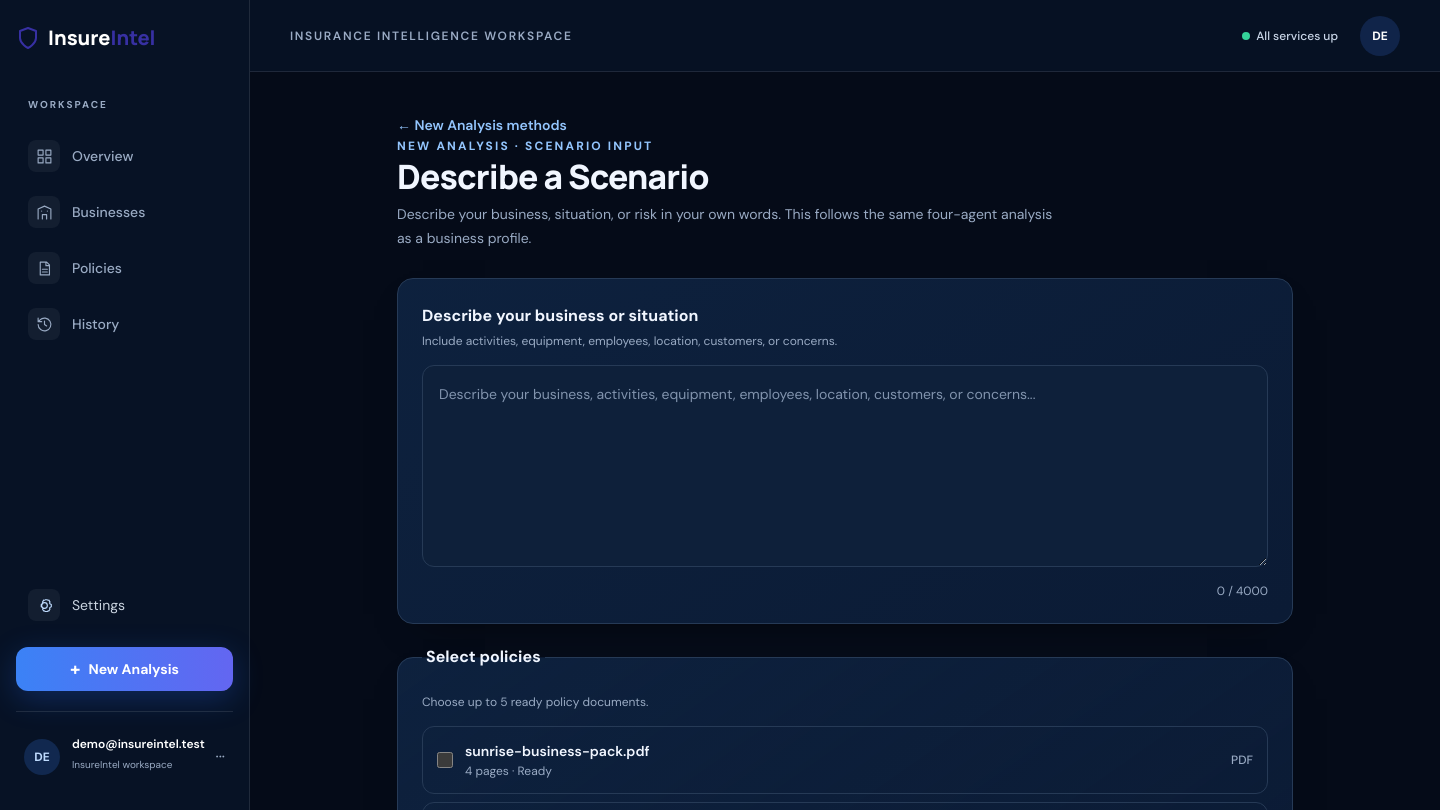
Test: retries a failed scenario run with the same scenario and policies
The width and height of the screenshot is (1440, 810).
Type "Bakery uses commercial ovens with five staff." into the text box at (845, 466), box [422, 365, 1268, 567]
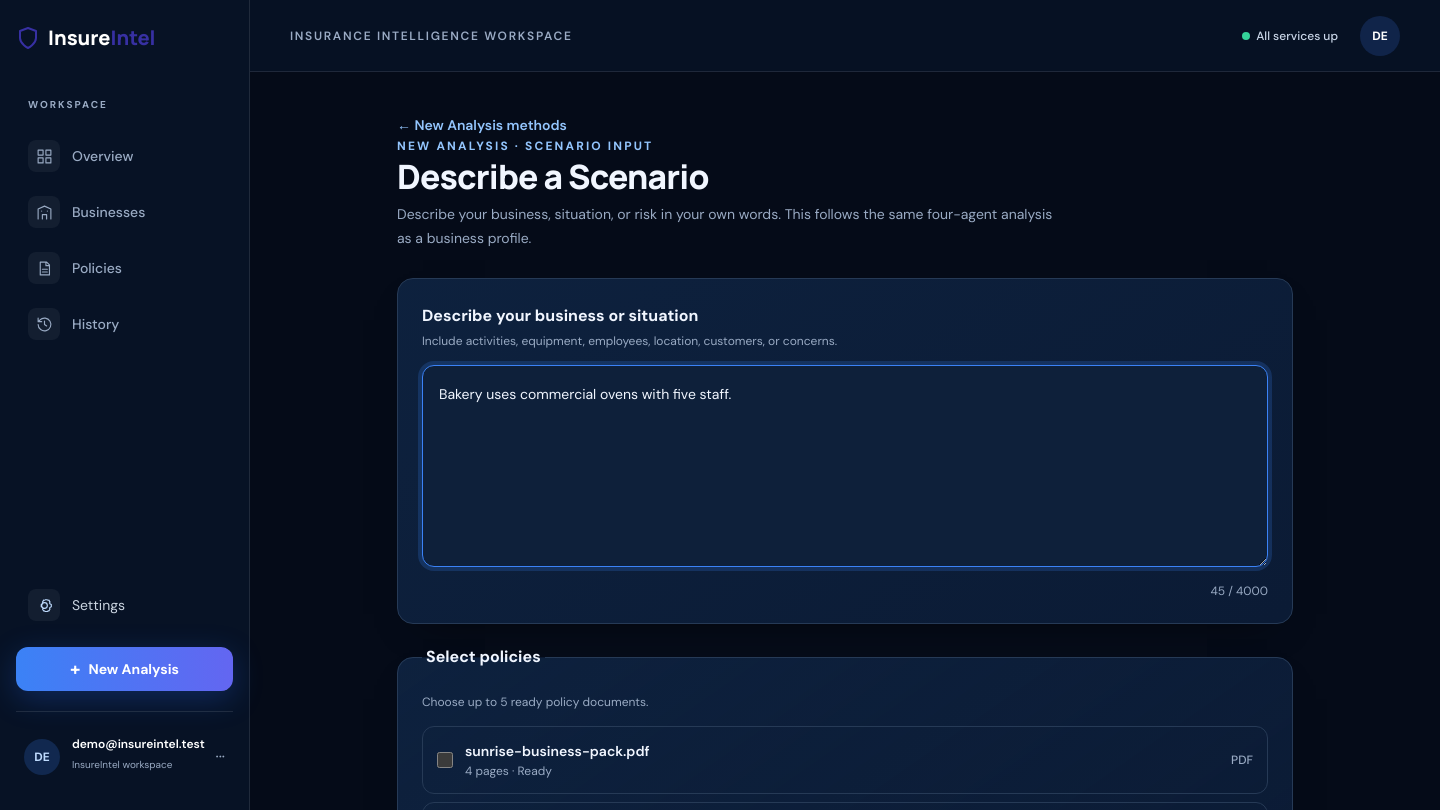
Click the checkbox labelled "sunrise-business-pack.pdf 4 pages · Ready PDF" at (445, 760), box [437, 752, 453, 768]
(page scrolled)
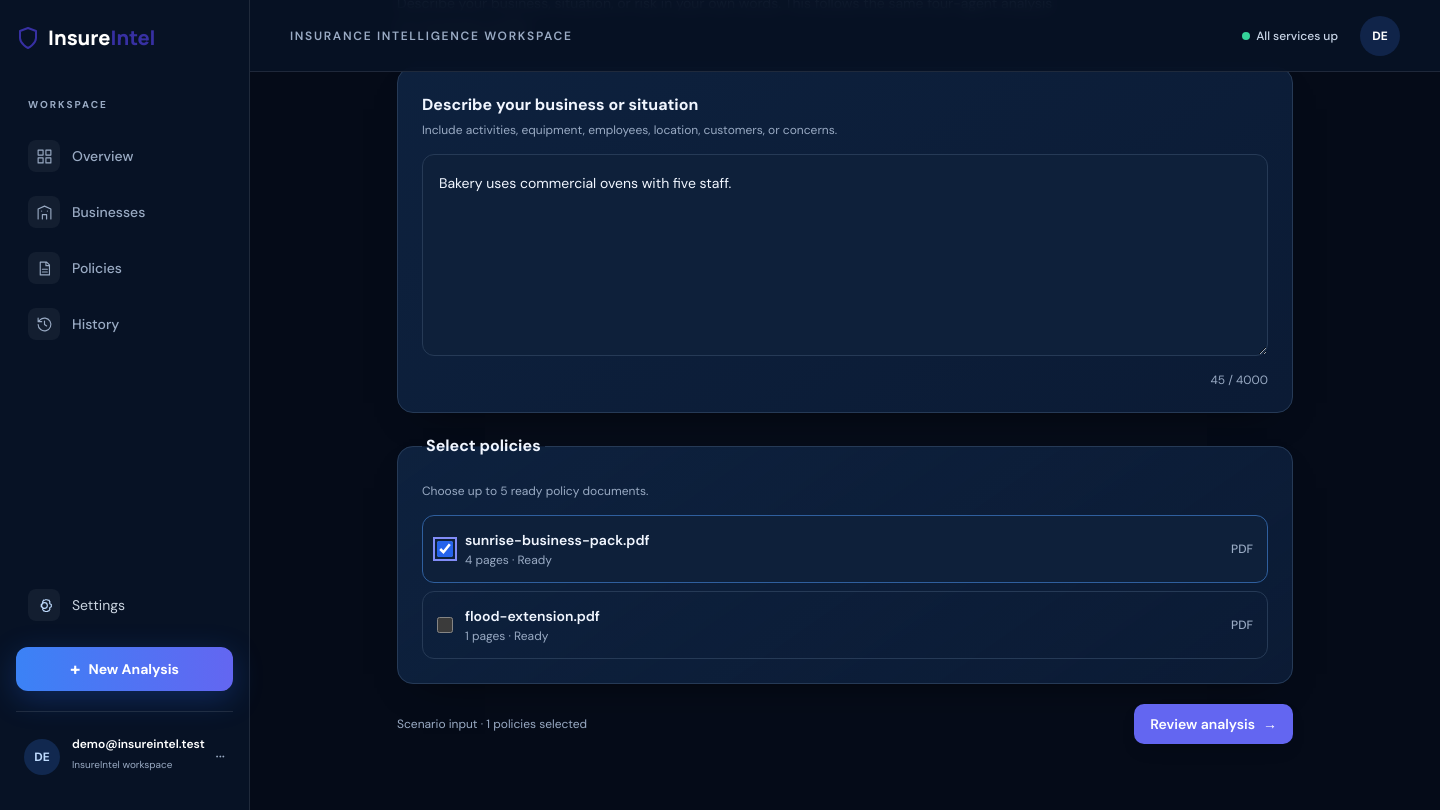
Click the button "Review analysis →" at (1214, 724), box [1134, 704, 1293, 744]
(page scrolled)
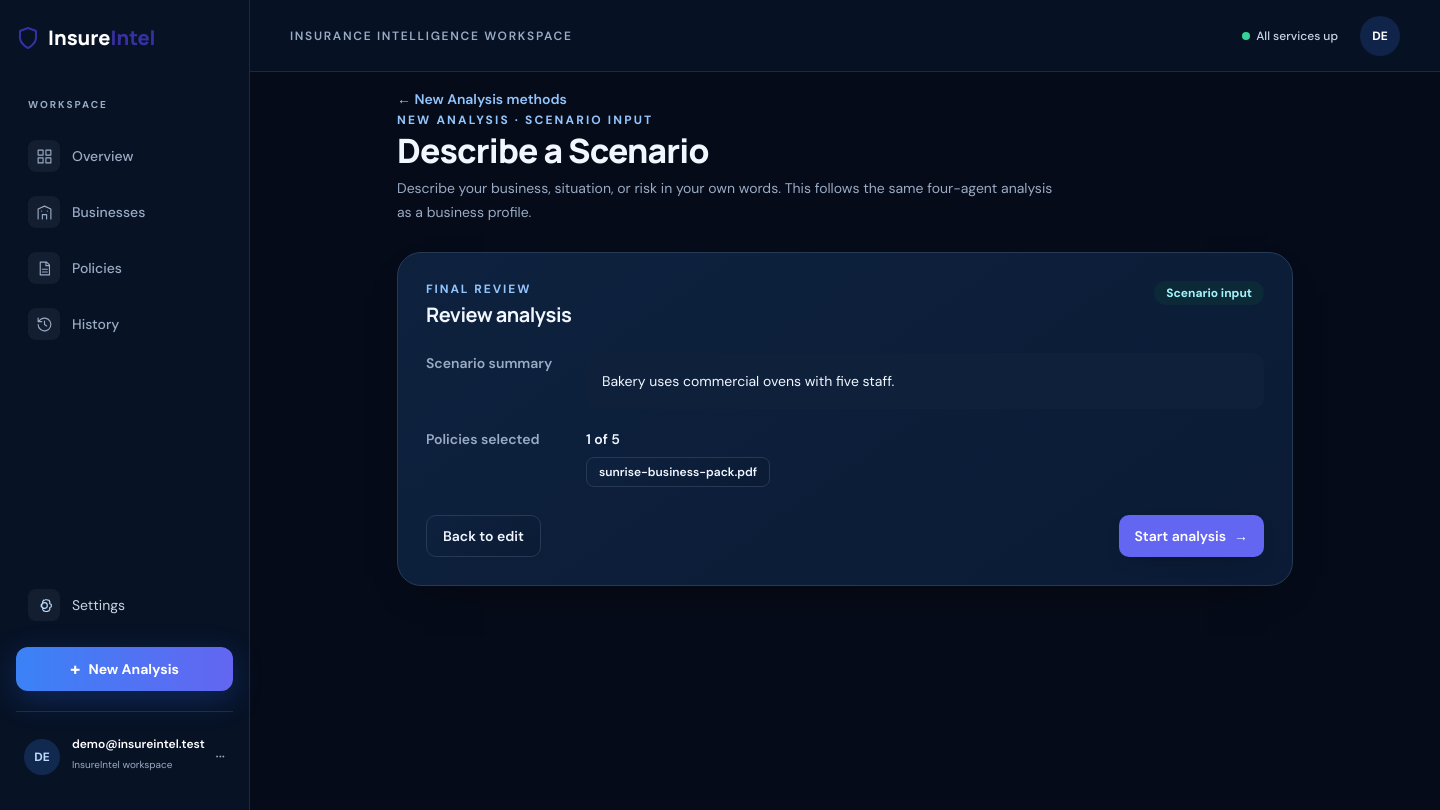
Expected: the heading "Review analysis" is shown, [426, 301, 571, 329]
Result: the text "Bakery uses commercial ovens with five staff." is shown at [586, 353, 1264, 409]
Click the button "Start analysis →" at (1191, 536), box [1118, 515, 1264, 557]
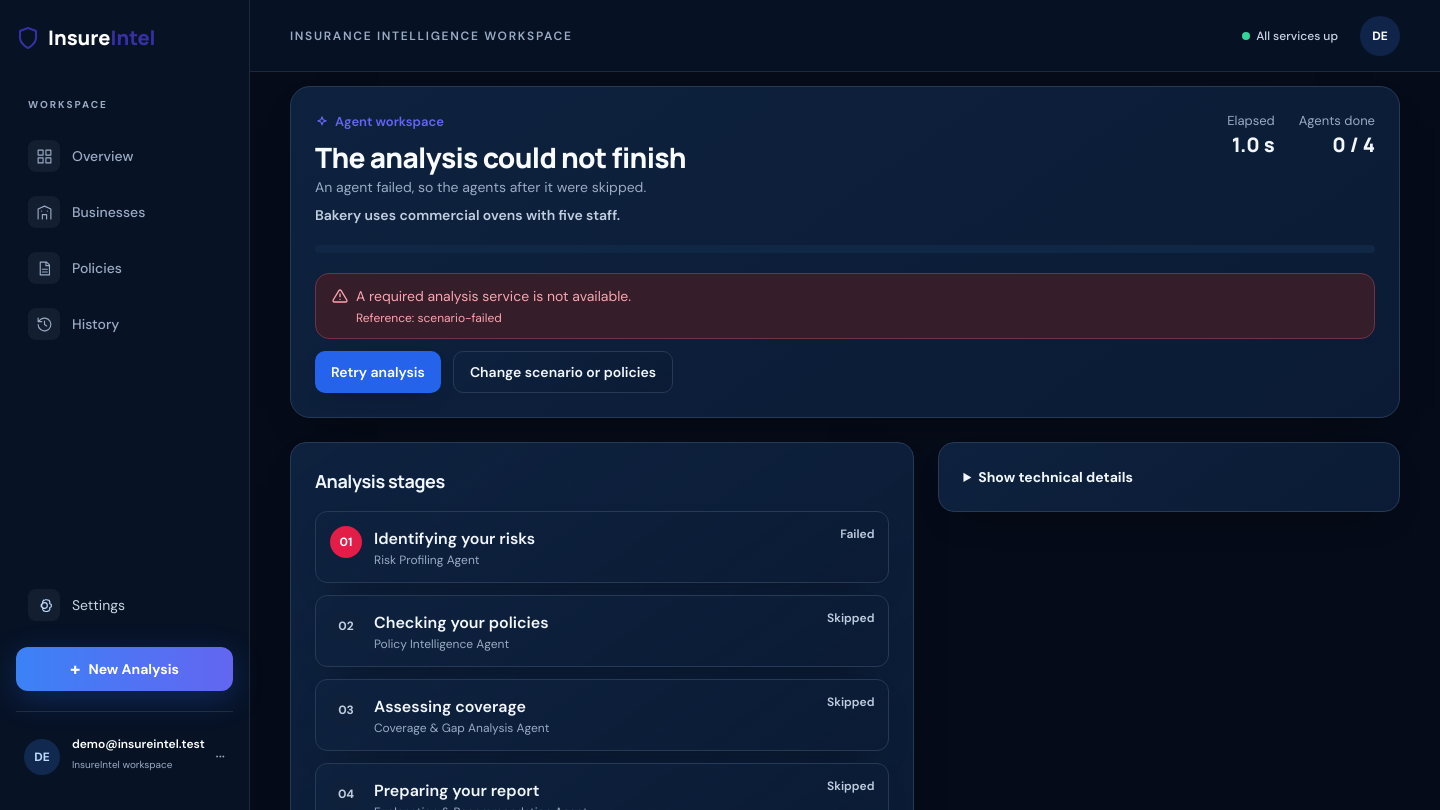
Result: the heading "The analysis could not finish" is shown at [315, 141, 686, 173]
Click the button "Retry analysis" at (378, 372), box [315, 351, 441, 393]
(page scrolled)
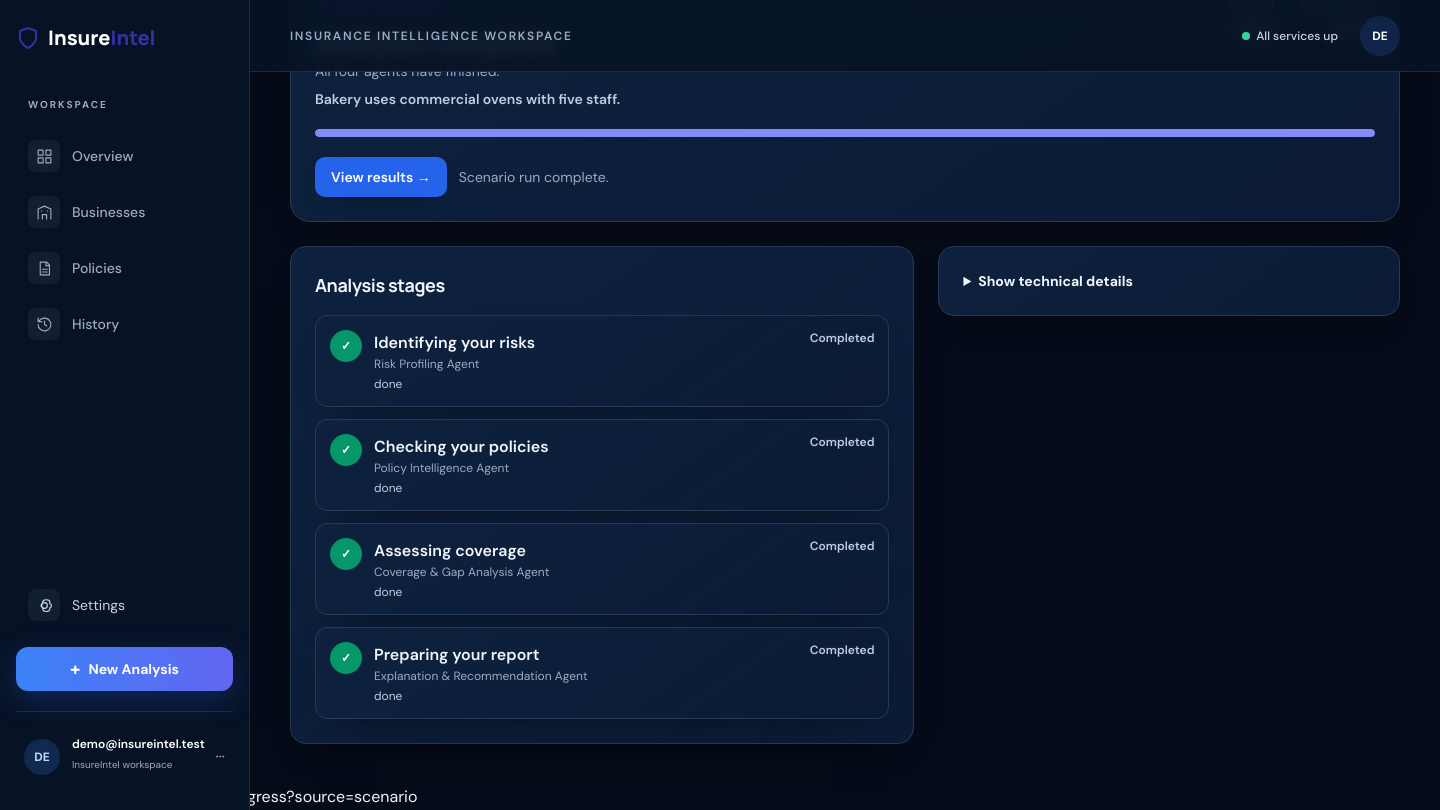
Expected: the heading "Analysis complete" is shown, [315, 22, 556, 60]
Result: the text with test id "location" reads "/app/analyses/scenario-retry/progress?source=scenario" at [0, 786, 417, 807]
